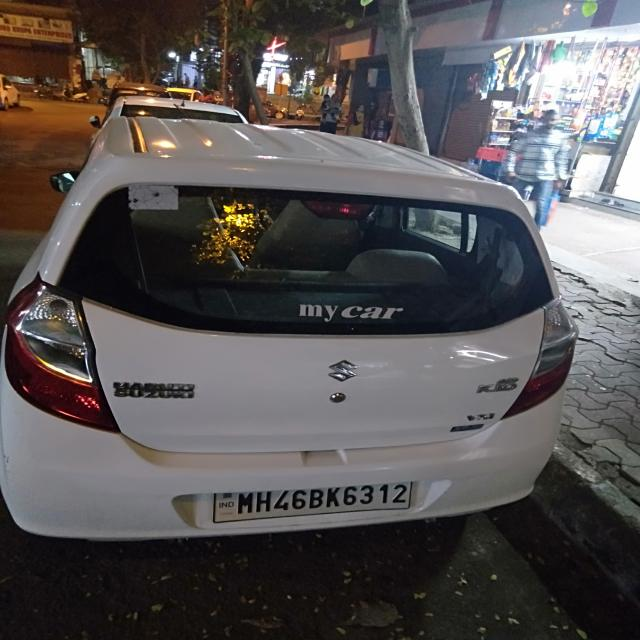Number-Plate: (210, 472, 422, 520)
